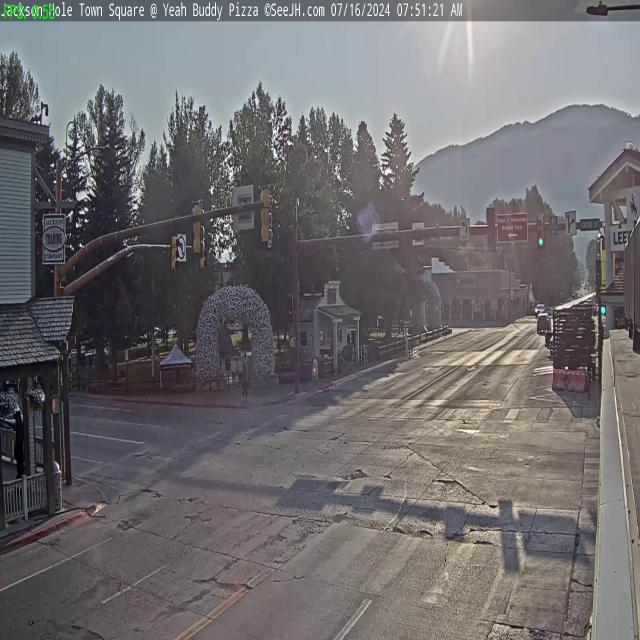person: (240, 351, 248, 403), (224, 353, 231, 389), (230, 354, 237, 389), (236, 351, 241, 389)
traffic light: (259, 183, 272, 244), (191, 199, 203, 257), (486, 207, 496, 252), (171, 230, 178, 274), (537, 214, 545, 248)
